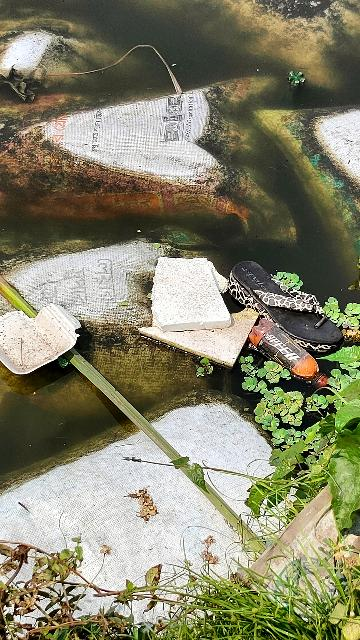cocksheet: (125, 238, 250, 347)
